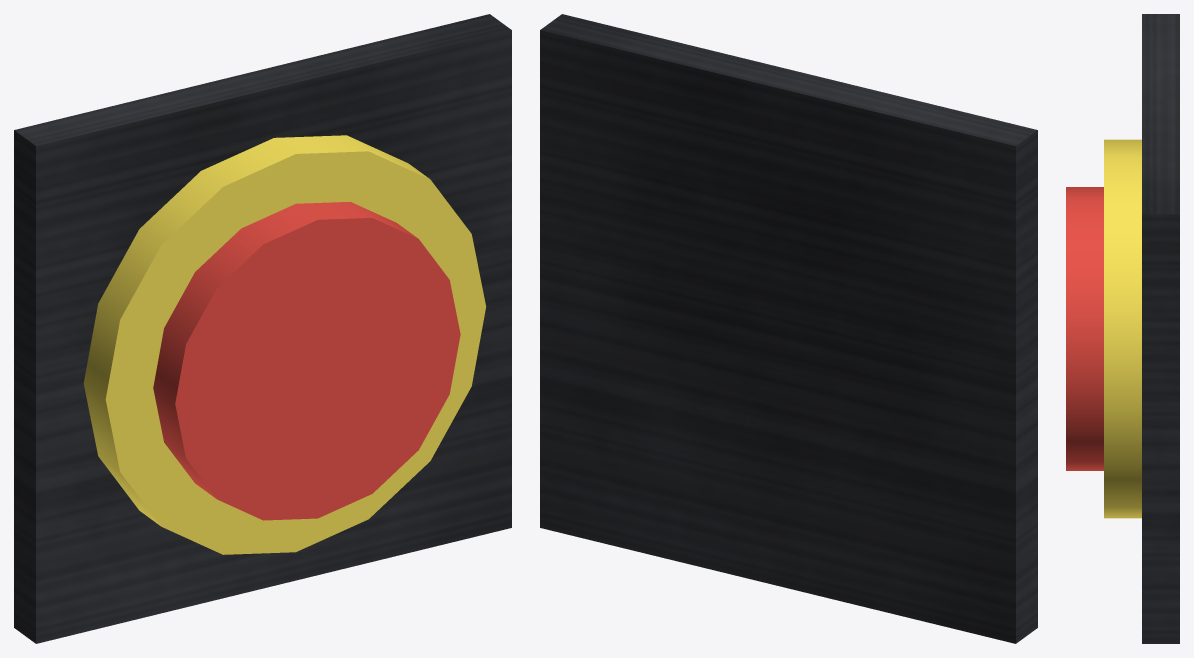
File: WallButton.fbx
The picture shows the model from 3 angles, left to right: view 1: azimuth 30°, elevation 25°; view 2: azimuth 150°, elevation 25°; view 3: azimuth 270°, elevation 25°; orthographic projection. The views are drawn at different scales.
Visible parts, largest first — view 1: WallButton; view 2: WallButton; view 3: WallButton.
Boxes of the visible parts, x1,y1,x2,y2 form: WallButton: [14, 14, 511, 643]; WallButton: [540, 14, 1037, 643]; WallButton: [1066, 14, 1179, 643].
Bounding box in the file's own units: 0.5 × 0.5 × 0.12.
Materials: 3 (1 with a texture image).
